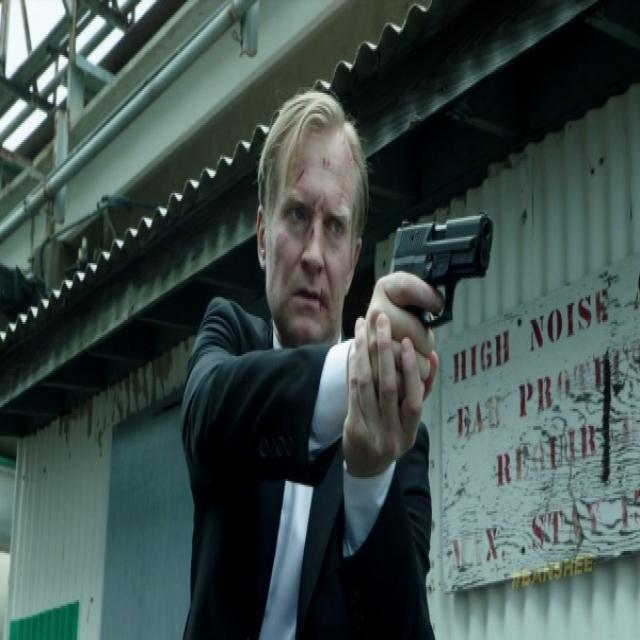weapons: (380, 205, 500, 383)
